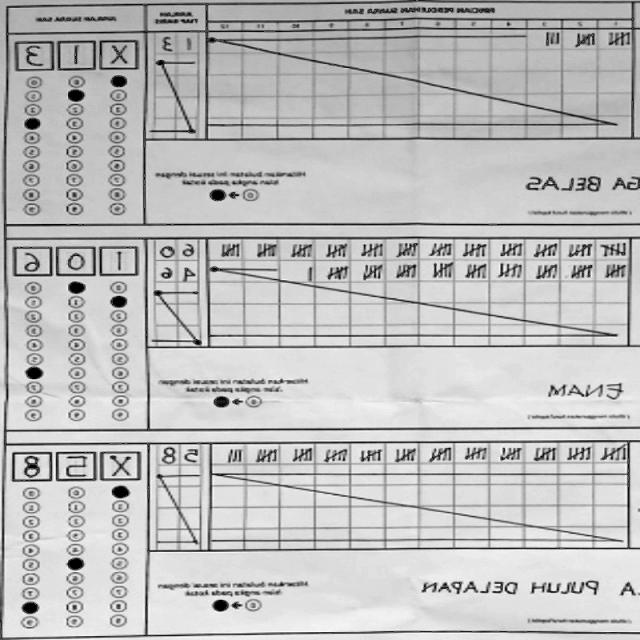Suara: (10, 446, 146, 484), (12, 240, 142, 278), (13, 34, 142, 70)
